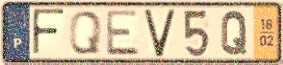5: (182, 8, 212, 59)
E: (104, 9, 142, 57)
F: (30, 7, 67, 58)
Q: (68, 10, 104, 57), (219, 9, 249, 57)
V: (142, 7, 177, 59)
